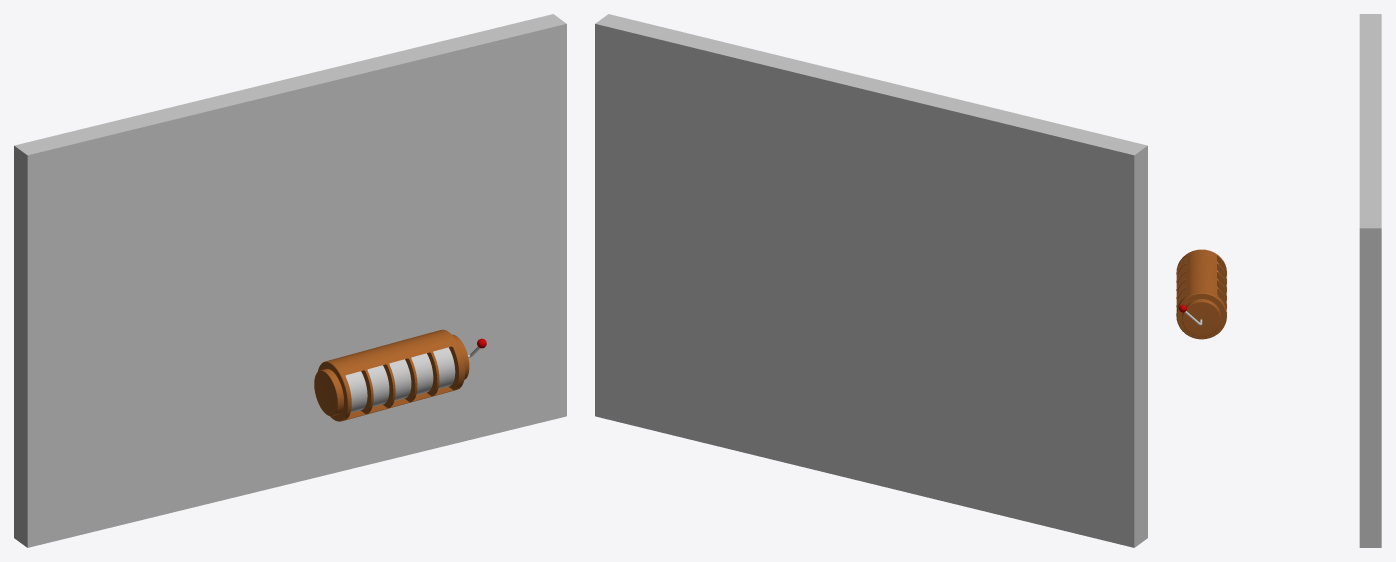
File: uploads_files_2750111_slot_machine.fbx
3 views of the same model, side by side, from view 1: azimuth 30°, elevation 25°; view 2: azimuth 150°, elevation 25°; view 3: azimuth 270°, elevation 25° (orthographic). The views are drawn at different scales.
Parts seen in each view (by area): view 1: fundo, Cylinder_3_2, Cylinder_1_2, Cylinder; view 2: fundo; view 3: fundo, Cylinder_3_2, Cylinder_2_2.
Boxes of the visible parts, bbox=[...] form: fundo: bbox=[14, 14, 566, 547]; Cylinder_3_2: bbox=[317, 329, 464, 421]; Cylinder_1_2: bbox=[314, 368, 343, 416]; Cylinder: bbox=[345, 371, 367, 412]; fundo: bbox=[595, 14, 1147, 547]; fundo: bbox=[1359, 14, 1381, 547]; Cylinder_3_2: bbox=[1176, 249, 1226, 339]; Cylinder_2_2: bbox=[1182, 299, 1220, 336].
Bounding box in the file's own units: 1229 × 855 × 497.
